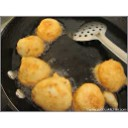bonda: (32, 77, 75, 111), (97, 56, 125, 84), (17, 35, 45, 60), (76, 85, 105, 109), (20, 57, 50, 79), (38, 17, 61, 41)
